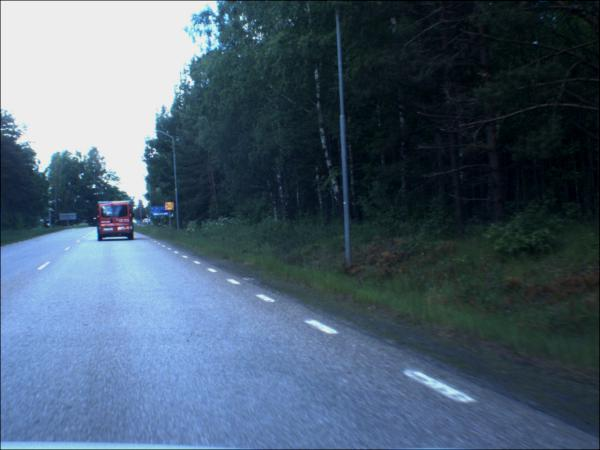50_SIGN: (166, 203, 176, 212)
